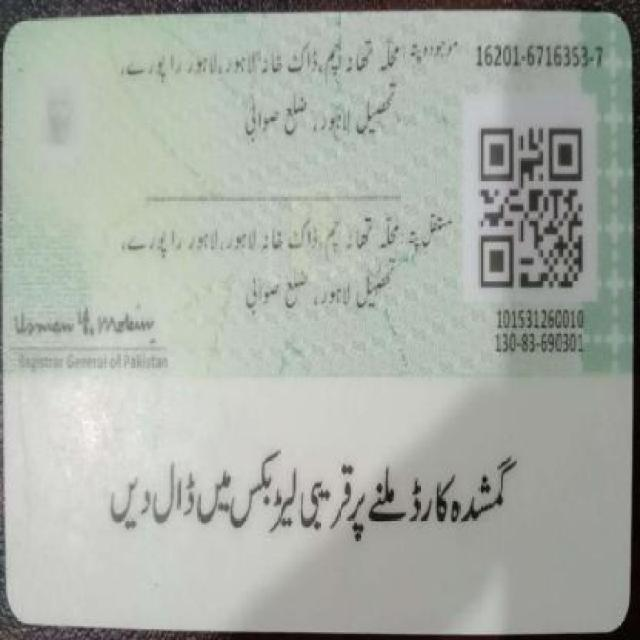Back: (4, 12, 630, 625)
